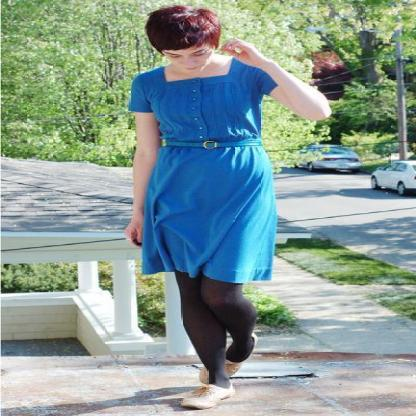dress: (128, 58, 289, 282)
pants: (174, 263, 254, 384)
shoe: (187, 374, 250, 416)
